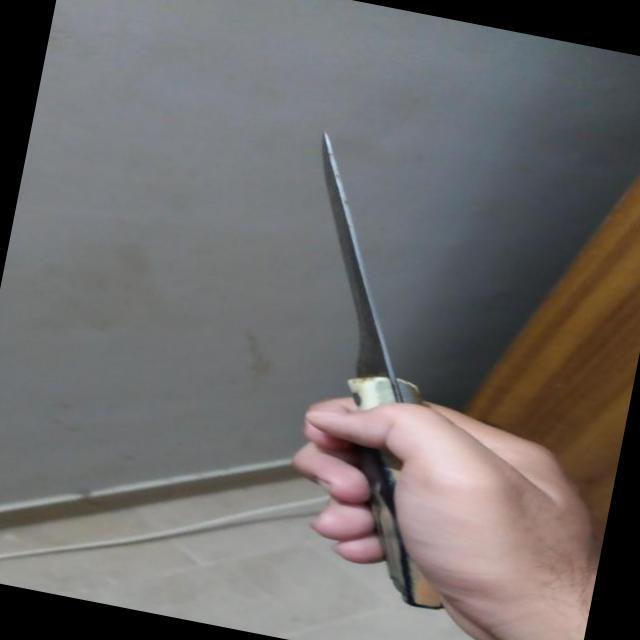Knife: (207, 90, 568, 492)
